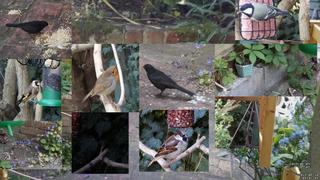blackbird: (140, 64, 195, 99), (5, 20, 52, 41)
goldfinch: (16, 79, 41, 106)
great tit: (237, 2, 290, 21)
robin: (81, 64, 119, 105)
sparrow: (146, 130, 189, 168)
